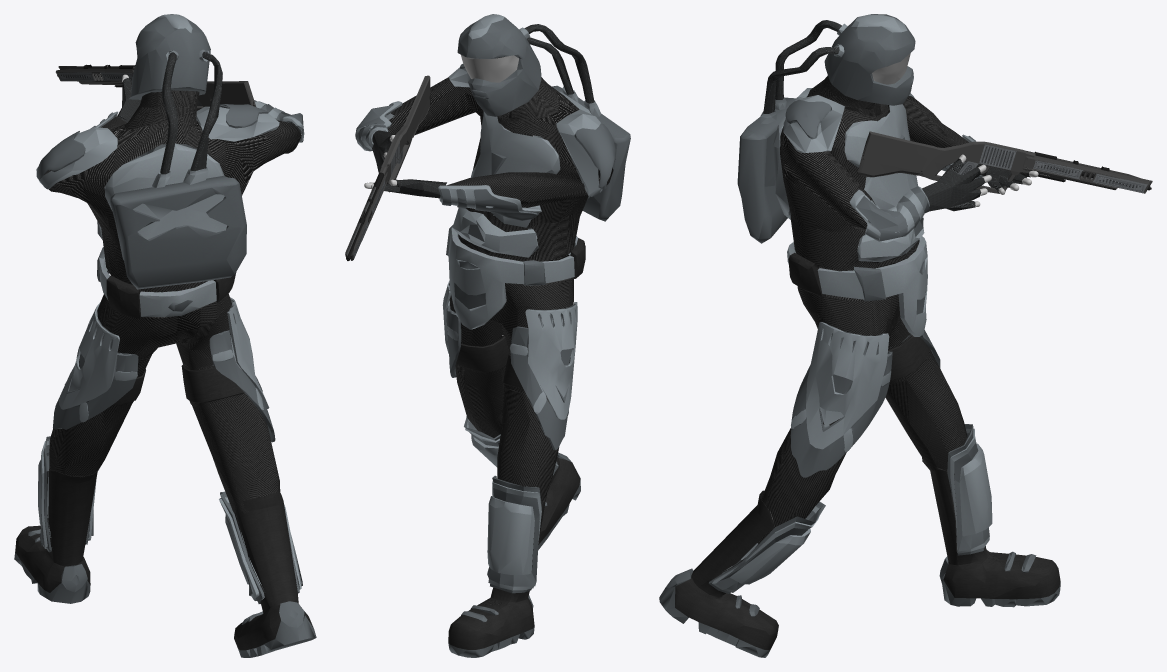
The picture shows the model from 3 angles, left to right: view 1: azimuth 30°, elevation 25°; view 2: azimuth 150°, elevation 25°; view 3: azimuth 270°, elevation 25°; orthographic projection. The views are drawn at different scales.
Parts seen in each view (by area): view 1: personaje:extrudedSurface2 polySurface44, personaje:PANTALON polySurface44, personaje:bota1 polySurface44, personaje:CAMISETABUENA polySurface44, personaje:pPipe4 polySurface44, personaje:pCube4 polySurface44, personaje:cinturon polySurface44, personaje:cosoarmdaurapierna1 polySurface44, escopeta:Cylinder001 polySurface44, personaje:polySurface6 polySurface44, personaje:armadbota1 polySurface44, personaje:cosoarmadurapierna2 polySurface44 (+3 smaller); view 2: personaje:CAMISETABUENA polySurface44, personaje:PANTALON polySurface44, personaje:pPipe4 polySurface44, personaje:extrudedSurface2 polySurface44, personaje:cinturon polySurface44, personaje:bota1 polySurface44, personaje:pCube4 polySurface44, personaje:cosoarmdaurapierna1 polySurface44, personaje:armadbota1 polySurface44, escopeta:Cylinder001 polySurface44, personaje:polySurface6 polySurface44, personaje:HOMBRO2 polySurface44 (+6 smaller); view 3: personaje:bota1 polySurface44, personaje:PANTALON polySurface44, personaje:CAMISETABUENA polySurface44, personaje:extrudedSurface2 polySurface44, personaje:pPipe4 polySurface44, personaje:pCube4 polySurface44, escopeta:Cylinder001 polySurface44, personaje:cinturon polySurface44, personaje:armadbota1 polySurface44, personaje:cosoarmadurapierna2 polySurface44, personaje:polySurface6 polySurface44, personaje:hombro1 polySurface44 (+2 smaller).
Boxes of the visible parts, left/top/right/bottom form: personaje:extrudedSurface2 polySurface44: left=110, top=14, right=246, bottom=289; personaje:PANTALON polySurface44: left=49, top=281, right=280, bottom=533; personaje:bota1 polySurface44: left=14, top=471, right=316, bottom=657; personaje:CAMISETABUENA polySurface44: left=44, top=90, right=301, bottom=318; personaje:pPipe4 polySurface44: left=36, top=78, right=303, bottom=239; personaje:pCube4 polySurface44: left=40, top=297, right=302, bottom=603; personaje:cinturon polySurface44: left=97, top=247, right=236, bottom=319; personaje:cosoarmdaurapierna1 polySurface44: left=59, top=302, right=137, bottom=422; escopeta:Cylinder001 polySurface44: left=55, top=64, right=255, bottom=110; personaje:polySurface6 polySurface44: left=112, top=364, right=244, bottom=405; personaje:armadbota1 polySurface44: left=38, top=440, right=301, bottom=600; personaje:cosoarmadurapierna2 polySurface44: left=209, top=330, right=275, bottom=442; personaje:CAMISETABUENA polySurface44: left=387, top=57, right=613, bottom=285; personaje:PANTALON polySurface44: left=449, top=239, right=573, bottom=503; personaje:pPipe4 polySurface44: left=356, top=67, right=606, bottom=257; personaje:extrudedSurface2 polySurface44: left=457, top=14, right=630, bottom=221; personaje:cinturon polySurface44: left=446, top=215, right=585, bottom=329; personaje:bota1 polySurface44: left=448, top=452, right=580, bottom=657; personaje:pCube4 polySurface44: left=442, top=280, right=572, bottom=593; personaje:cosoarmdaurapierna1 polySurface44: left=510, top=302, right=577, bottom=419; personaje:armadbota1 polySurface44: left=465, top=416, right=558, bottom=590; escopeta:Cylinder001 polySurface44: left=345, top=75, right=430, bottom=260; personaje:polySurface6 polySurface44: left=456, top=336, right=523, bottom=388; personaje:HOMBRO2 polySurface44: left=574, top=123, right=615, bottom=188; personaje:bota1 polySurface44: left=659, top=457, right=1060, bottom=657; personaje:PANTALON polySurface44: left=757, top=252, right=967, bottom=543; personaje:CAMISETABUENA polySurface44: left=780, top=75, right=968, bottom=301; personaje:extrudedSurface2 polySurface44: left=737, top=14, right=915, bottom=243; personaje:pPipe4 polySurface44: left=773, top=88, right=1030, bottom=262; personaje:pCube4 polySurface44: left=708, top=322, right=989, bottom=593; escopeta:Cylinder001 polySurface44: left=857, top=131, right=1152, bottom=193; personaje:cinturon polySurface44: left=787, top=234, right=927, bottom=336; personaje:armadbota1 polySurface44: left=712, top=428, right=992, bottom=592; personaje:cosoarmadurapierna2 polySurface44: left=790, top=330, right=892, bottom=477; personaje:polySurface6 polySurface44: left=888, top=335, right=930, bottom=380; personaje:hombro1 polySurface44: left=785, top=99, right=831, bottom=139.
Size of the model in its own units: 4.25 by 9.49 by 6.78.
